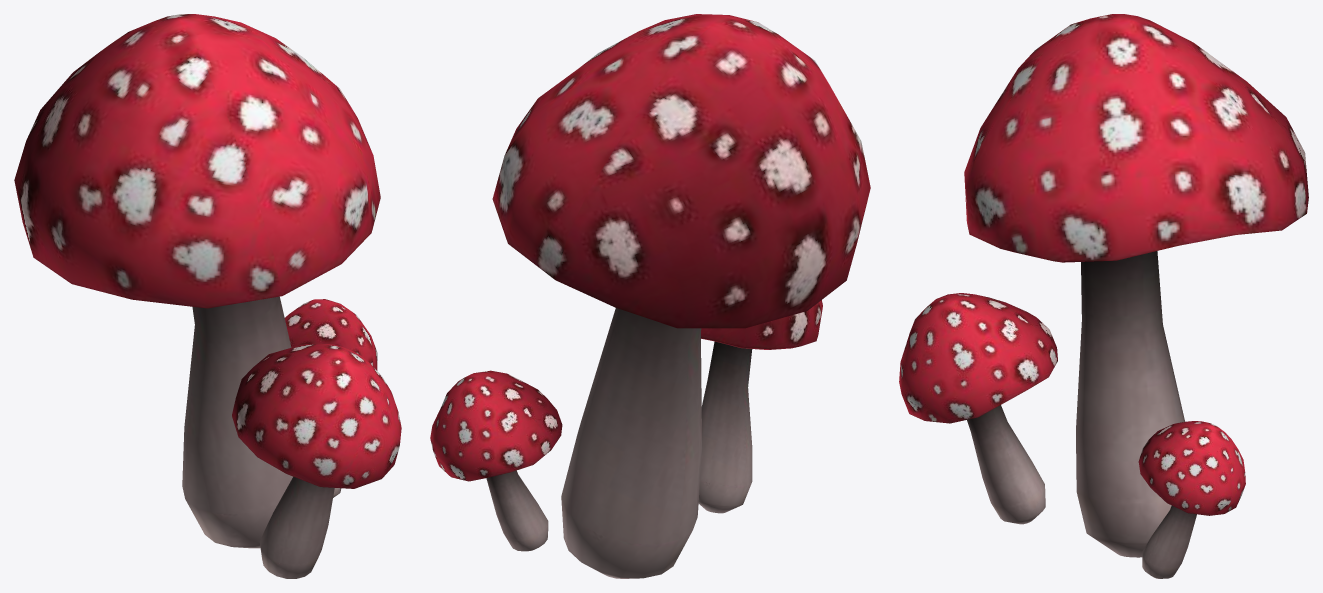
Rendered from Red_shrooms_03.fbx.
3 renders of one model, left to right at view 1: azimuth 30°, elevation 25°; view 2: azimuth 150°, elevation 25°; view 3: azimuth 270°, elevation 25°, orthographic. The views are drawn at different scales.
Parts seen in each view (by area): view 1: tiny_red_shroom1, tiny_red_shroom2, tiny_red_shroom4; view 2: tiny_red_shroom1, tiny_red_shroom4, tiny_red_shroom2; view 3: tiny_red_shroom1, tiny_red_shroom2, tiny_red_shroom4.
Part boxes in pixels (x1,y1,x2,y2): tiny_red_shroom1: (14,14,380,548); tiny_red_shroom2: (232,343,401,578); tiny_red_shroom4: (284,299,377,497); tiny_red_shroom1: (492,14,870,578); tiny_red_shroom4: (430,370,562,551); tiny_red_shroom2: (698,300,822,513); tiny_red_shroom1: (964,14,1308,557); tiny_red_shroom2: (899,293,1057,524); tiny_red_shroom4: (1138,421,1245,578).
Bounding box in the file's own units: 33.65 × 48.87 × 36.43.
